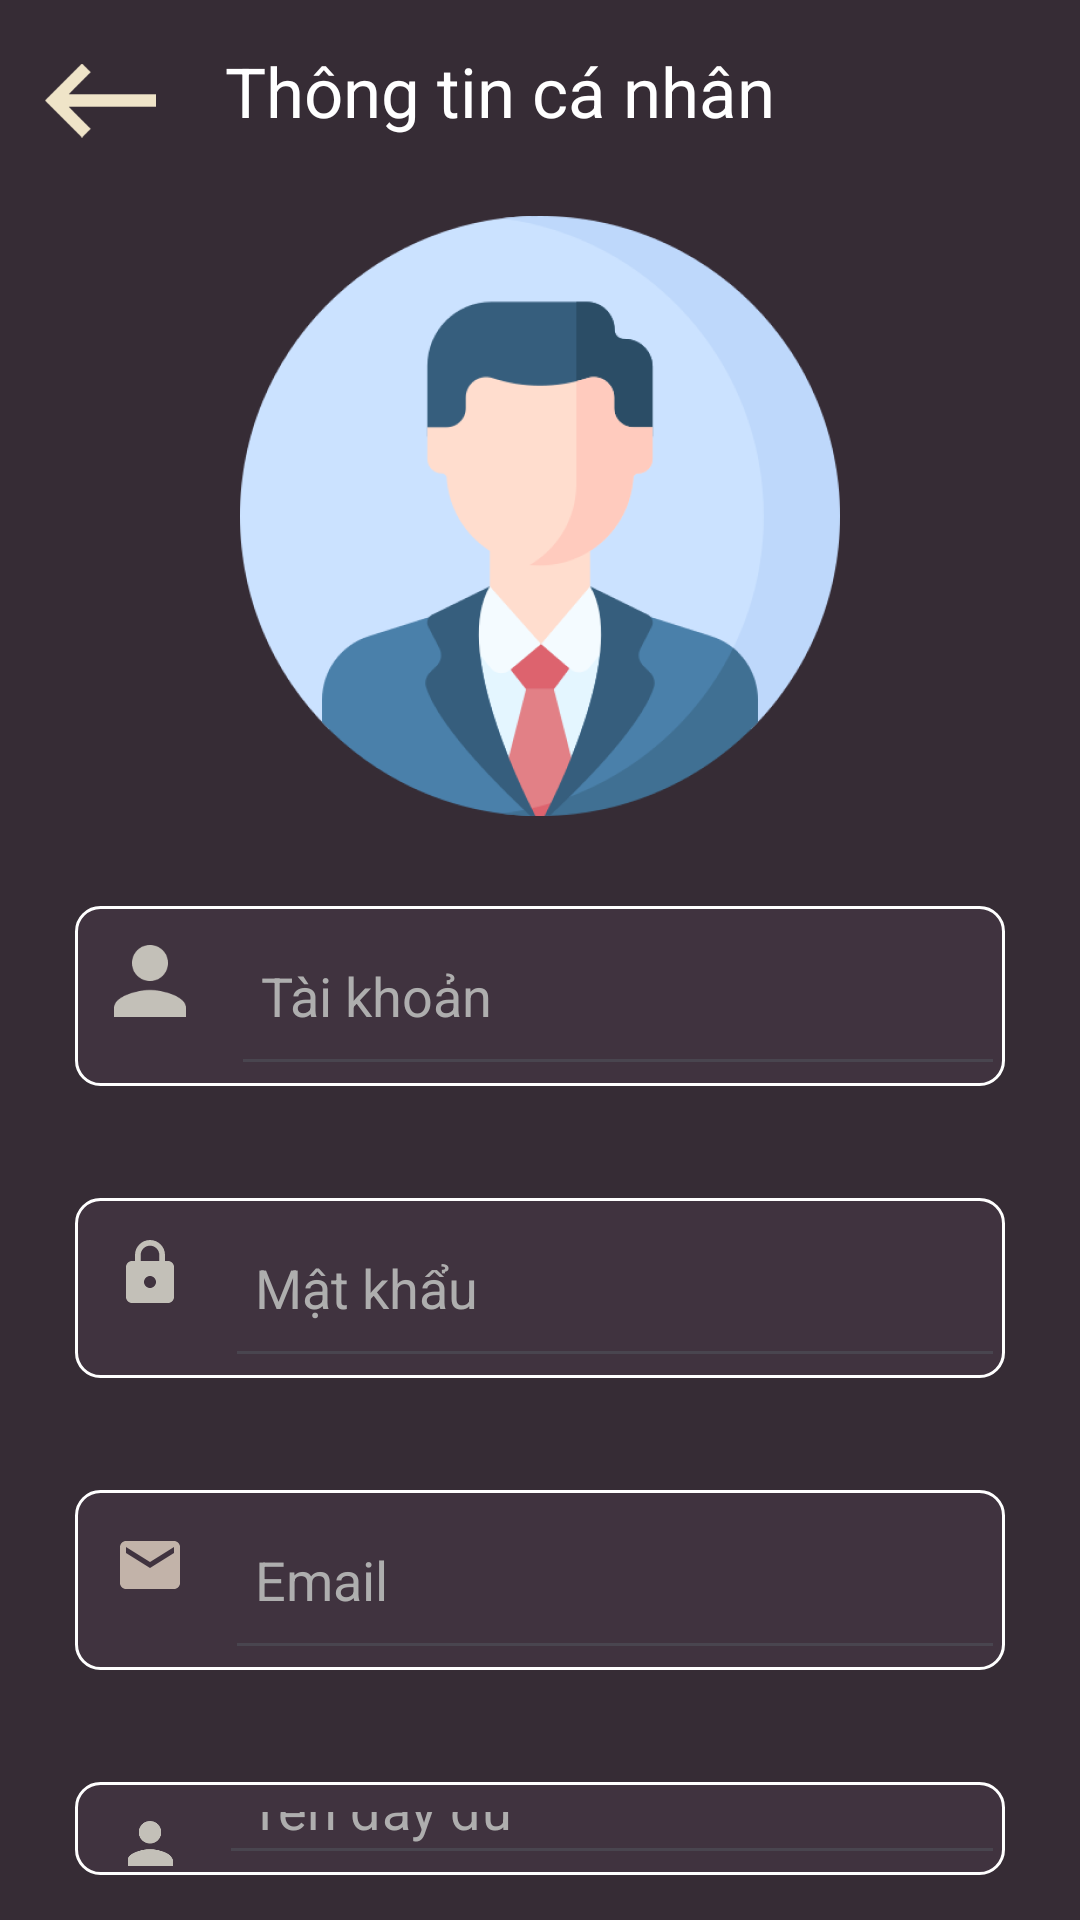

Named icons in this screenshot (1080×1920) and their centers, point (x, y):
password: point (150, 1271)
